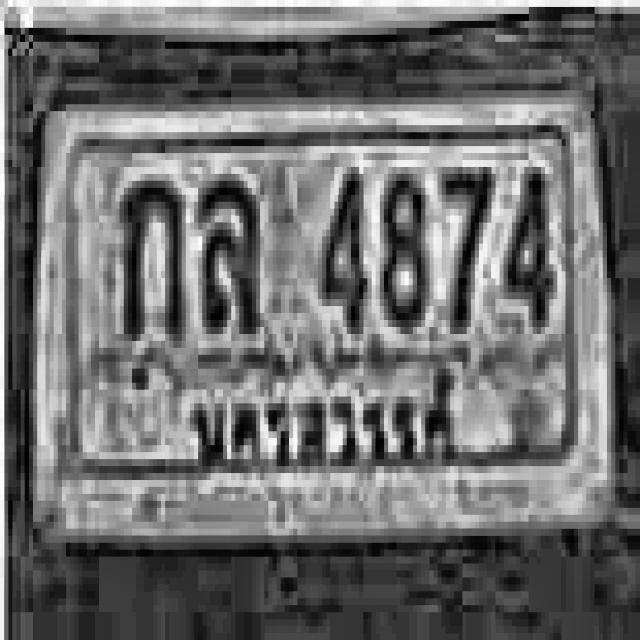license-plate: (30, 85, 617, 553)
